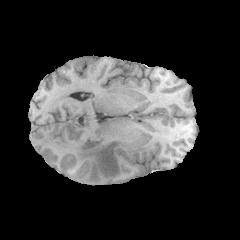glioma: (73, 138, 120, 182)
